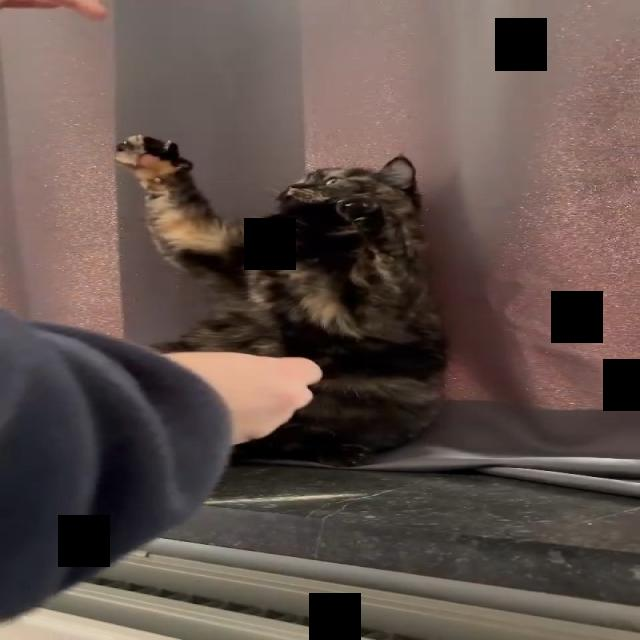authorized: (113, 133, 451, 468)
